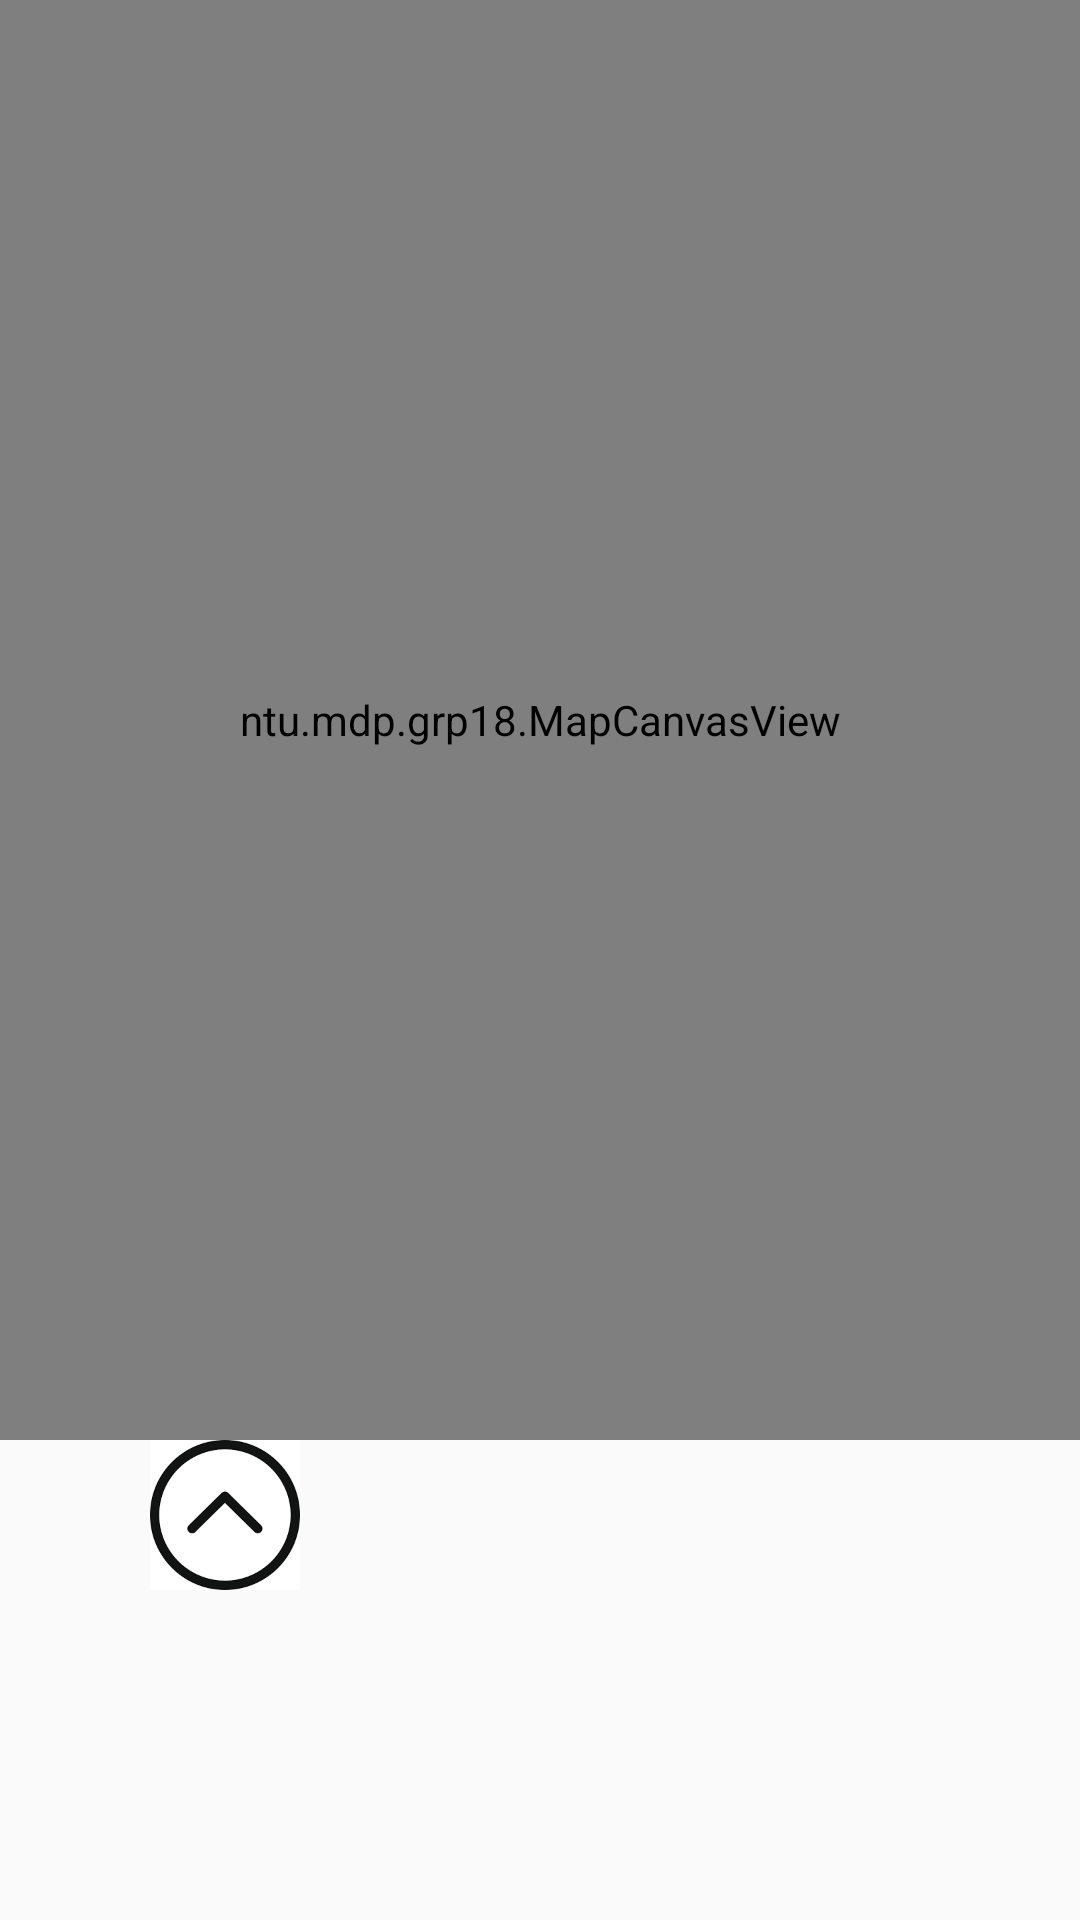

Named icons in this screenshot (1080×1920) and their bounding boxes, (x1, y1, x2, y2):
abovearrow: (150, 1440, 300, 1590)
